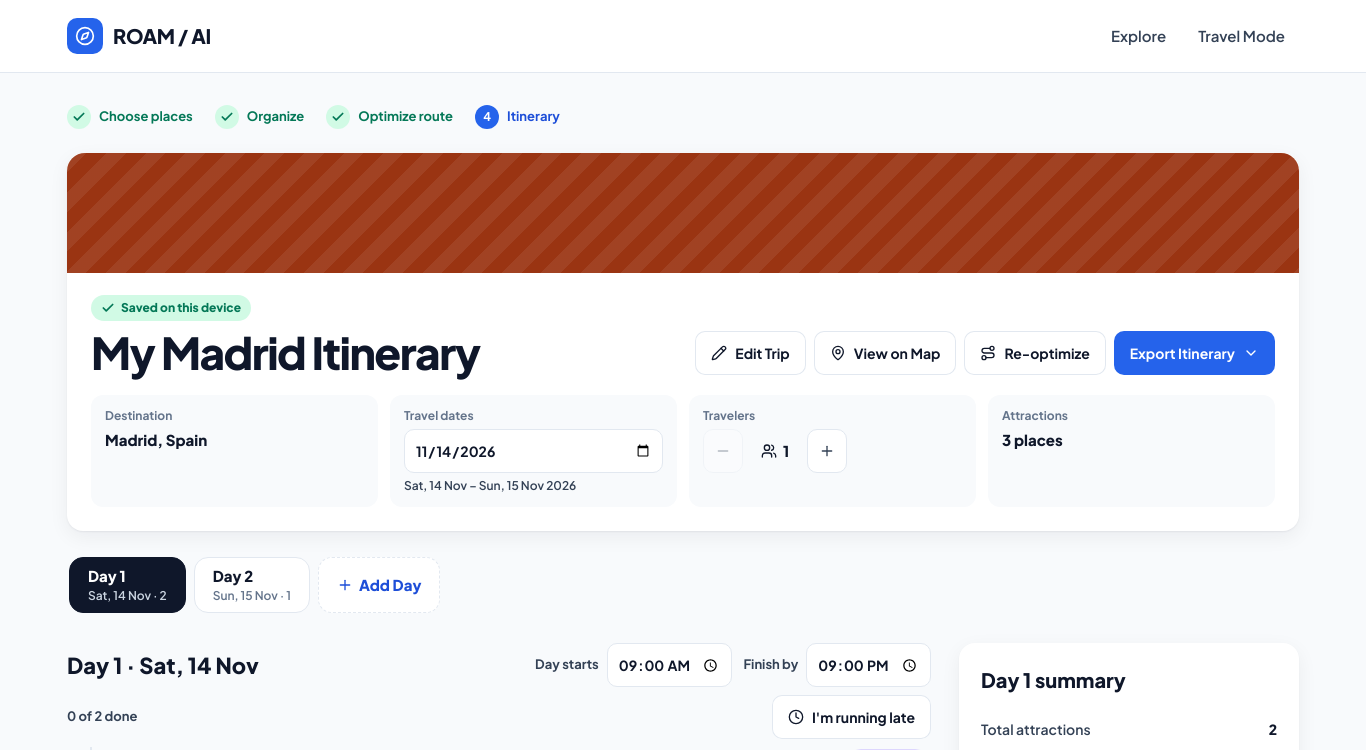
Test: ItineraryPage › switches days
This screenshot has width=1366, height=750.
Click the tab "Day 2 Sun, 15 Nov · 1" at (252, 585), box [194, 557, 310, 613]
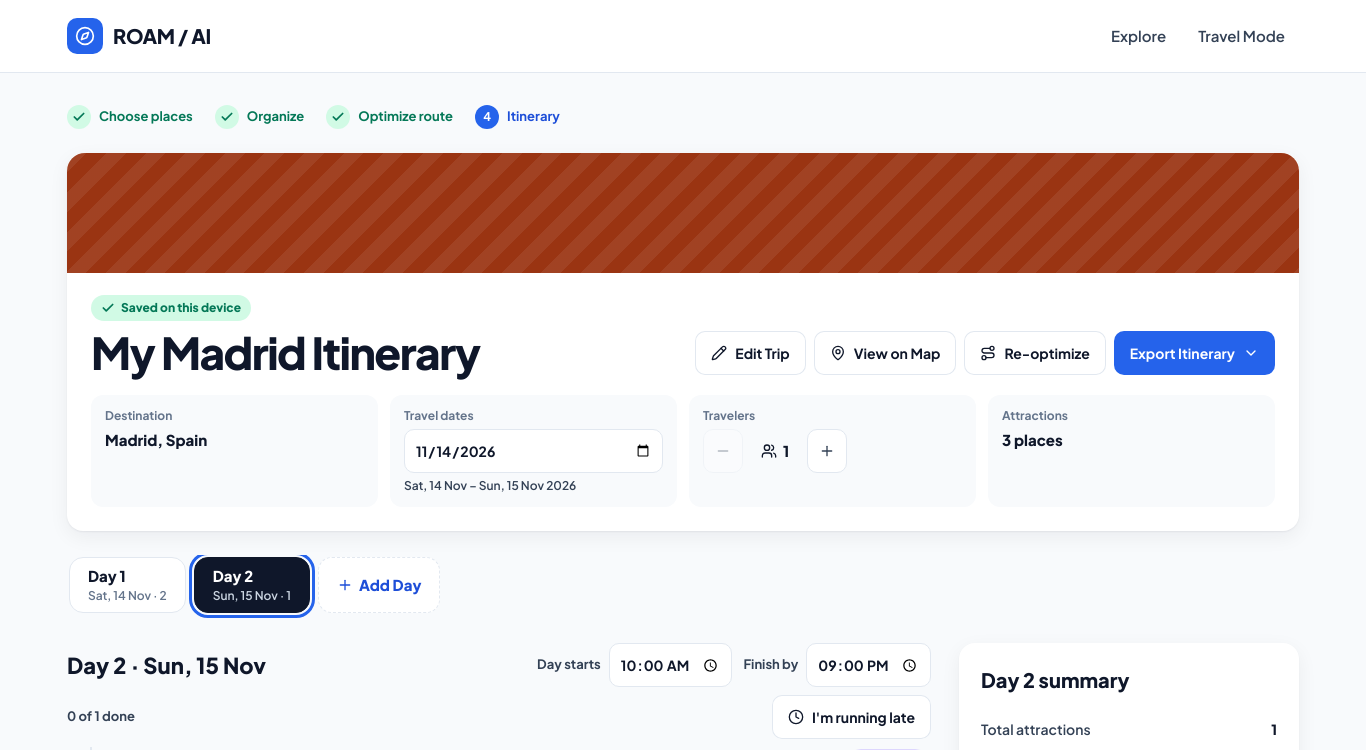
Expected: the heading "Day 2 summary" is shown, [981, 667, 1130, 692]
